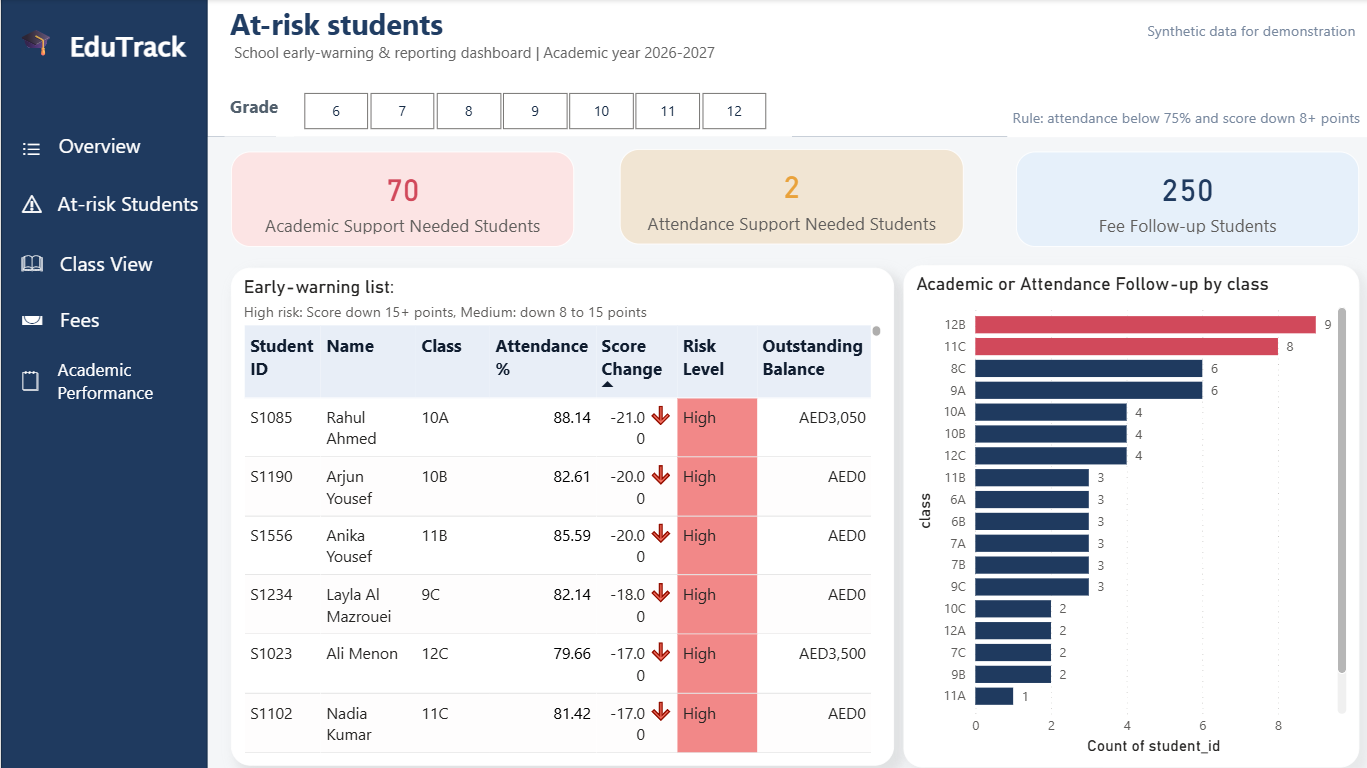

The page's visual inventory and layout, read from the dashboard file:
{"tool":"powerbi","page":{"name":"At-risk students","canvas":[1280,720],"ordinal":1},"visuals":[{"type":"shape","box":[192,0,1088,128],"z":0},{"type":"textbox","box":[58.8,22.5,137.5,52.5],"z":0,"group":"g4"},{"type":"textbox","box":[48.8,118.4,112.5,40],"z":0,"group":"g3"},{"type":"textbox","box":[47.6,172.5,187.5,38.8],"z":0,"group":"g1"},{"type":"textbox","box":[50.1,227.8,150,38.8],"z":0,"group":"g2"},{"type":"textbox","box":[49.8,280,62.5,45],"z":0,"group":"g5"},{"type":"textbox","box":[8.8,15,58.8,46.2],"z":1000,"group":"g4"},{"type":"textbox","box":[0,124.6,58.8,33.8],"z":1000,"group":"g3"},{"type":"textbox","box":[8.8,170,50,52.5],"z":1000,"group":"g1"},{"type":"textbox","box":[12.6,227.8,42.5,43.8],"z":1000,"group":"g2"},{"type":"tableEx","title":"Early-warning list:","fields":{"Values":["students.student_id","students.name","students.class","view_student_warning.attendance_perc","view_student_warning.score_change","view_student_warning.Risk Level","view_student_warning.outstanding_balance"]},"box":[213.7,249.8,617.2,463.5],"z":1000},{"type":"textbox","box":[12.3,270,53.8,57.5],"z":1000,"group":"g5"},{"type":"card","fields":{"Values":["view_student_warning.Academic Support Students"]},"box":[213.7,141.7,319.4,89],"z":2000},{"type":"card","fields":{"Values":["view_student_warning.Attendance Support Students"]},"box":[576,139.1,320,89],"z":3000},{"type":"card","fields":{"Values":["view_student_warning.Fee Follow-up Students"]},"box":[943.8,141.7,319.4,89],"z":4000},{"type":"clusteredBarChart","title":"Academic or Attendance Follow-up by class","fields":{"Category":["students.class"],"Y":["Count(view_student_warning.student_id)"]},"box":[839.3,247.4,423.9,467.1],"z":5000},{"type":"shape","box":[0,0,192.2,720.3],"z":6000},{"type":"group","id":"g1","title":"Group 1","box":[8.8,170,226.2,52.5],"z":7000},{"type":"group","id":"g2","title":"Group 2","box":[12.6,227.8,187.5,43.8],"z":8000},{"type":"group","id":"g3","title":"Group 3","box":[0,118.4,161.2,40],"z":9000},{"type":"group","id":"g4","title":"Group 4","box":[8.8,15,187.5,60],"z":10000},{"type":"group","id":"g5","title":"Group 5","box":[12.3,270,100,57.5],"z":11000},{"type":"slicer","fields":{"Values":["view_student_warning.grade"]},"box":[255.8,80.2,480.2,47.7],"z":12000},{"type":"textbox","box":[208,0,688,64],"z":13000},{"type":"textbox","box":[208,64,64,64],"z":14000},{"type":"textbox","box":[1061.6,15.3,218.4,36.2],"z":15000},{"type":"textbox","box":[936.3,96,343.7,32],"z":16000},{"type":"actionButton","box":[12,117.7,138.1,39.6],"z":17000},{"type":"actionButton","box":[8.3,228.2,165.6,40.3],"z":18000},{"type":"actionButton","box":[9.7,279.7,132.2,40.3],"z":19000},{"type":"group","id":"g6","title":"Group 6","box":[11.6,327.9,168.6,57],"z":20000},{"type":"actionButton","box":[14,337.2,147.7,39.5],"z":21000},{"type":"textbox","box":[11.6,333.7,38.4,46.5],"z":22000,"group":"g6"},{"type":"textbox","box":[47.6,327.9,132.6,57],"z":23000,"group":"g6"}]}

Visuals, with their boxes on the page's 1280x720 design canvas (x1, y1, x2, y2). These are canvas units, not pixel positions in the 1367x768 screenshot, which may show the page scaled, cropped or inside an application window:
shape: <region>192, 0, 1280, 128</region>
textbox: <region>59, 22, 196, 75</region>
textbox: <region>49, 118, 161, 158</region>
textbox: <region>48, 172, 235, 211</region>
textbox: <region>50, 228, 200, 267</region>
textbox: <region>50, 280, 112, 325</region>
textbox: <region>9, 15, 68, 61</region>
textbox: <region>0, 125, 59, 158</region>
textbox: <region>9, 170, 59, 222</region>
textbox: <region>13, 228, 55, 272</region>
"Early-warning list:" tableEx: <region>214, 250, 831, 713</region>
textbox: <region>12, 270, 66, 328</region>
card - view_student_warning.Academic Support Students: <region>214, 142, 533, 231</region>
card - view_student_warning.Attendance Support Students: <region>576, 139, 896, 228</region>
card - view_student_warning.Fee Follow-up Students: <region>944, 142, 1263, 231</region>
"Academic or Attendance Follow-up by class" clusteredBarChart: <region>839, 247, 1263, 714</region>
shape: <region>0, 0, 192, 720</region>
"Group 1" group: <region>9, 170, 235, 222</region>
"Group 2" group: <region>13, 228, 200, 272</region>
"Group 3" group: <region>0, 118, 161, 158</region>
"Group 4" group: <region>9, 15, 196, 75</region>
"Group 5" group: <region>12, 270, 112, 328</region>
slicer - view_student_warning.grade: <region>256, 80, 736, 128</region>
textbox: <region>208, 0, 896, 64</region>
textbox: <region>208, 64, 272, 128</region>
textbox: <region>1062, 15, 1280, 52</region>
textbox: <region>936, 96, 1280, 128</region>
actionButton: <region>12, 118, 150, 157</region>
actionButton: <region>8, 228, 174, 268</region>
actionButton: <region>10, 280, 142, 320</region>
"Group 6" group: <region>12, 328, 180, 385</region>
actionButton: <region>14, 337, 162, 377</region>
textbox: <region>12, 334, 50, 380</region>
textbox: <region>48, 328, 180, 385</region>
